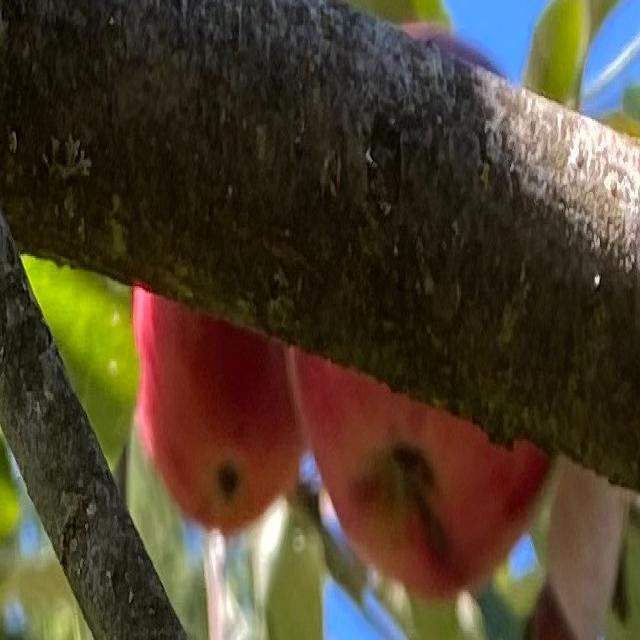100-_ripeness: (291, 345, 555, 595), (135, 283, 308, 532)
